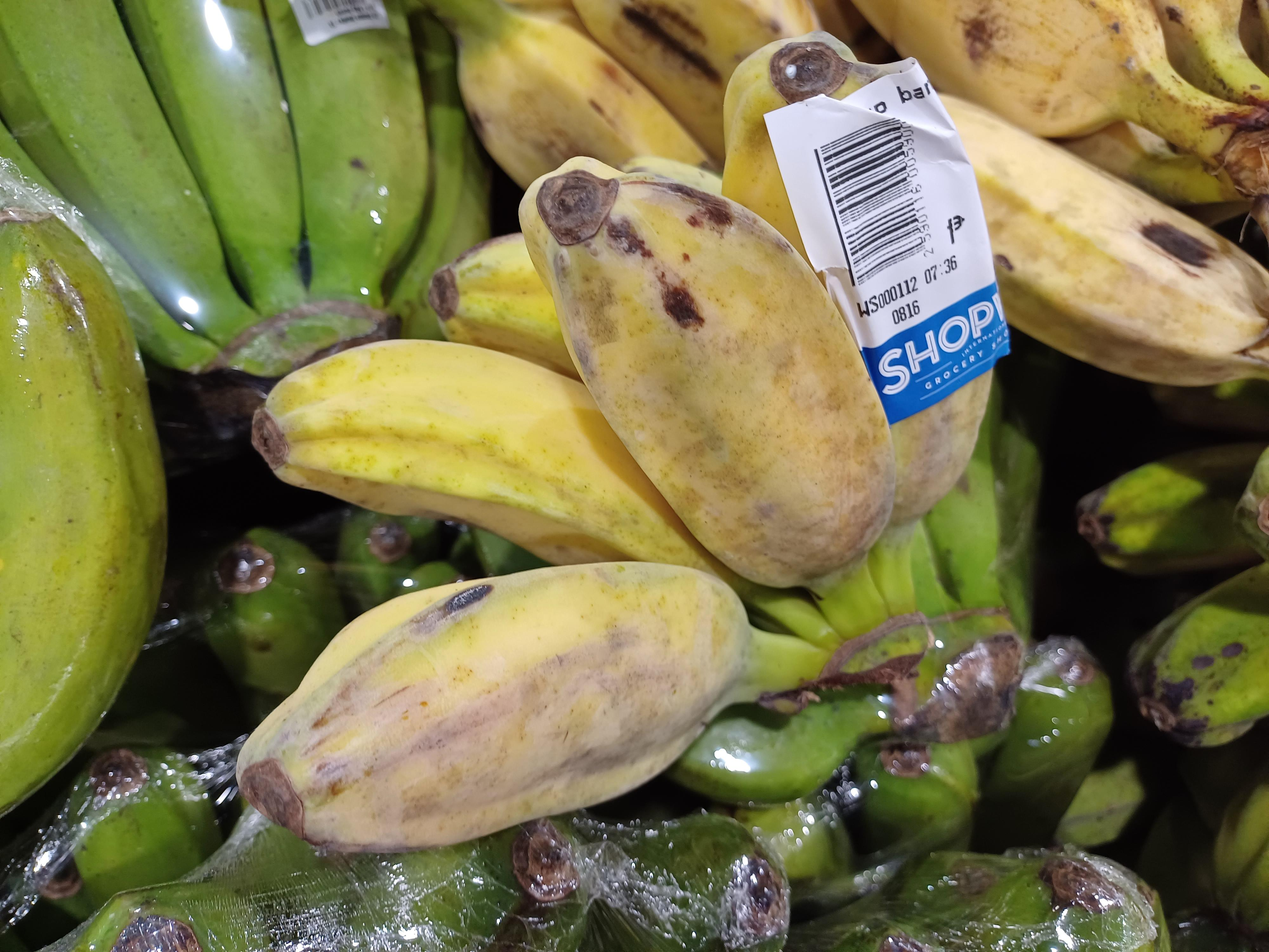ripe: (239, 31, 1006, 851), (842, 0, 1269, 187), (460, 0, 819, 190)
